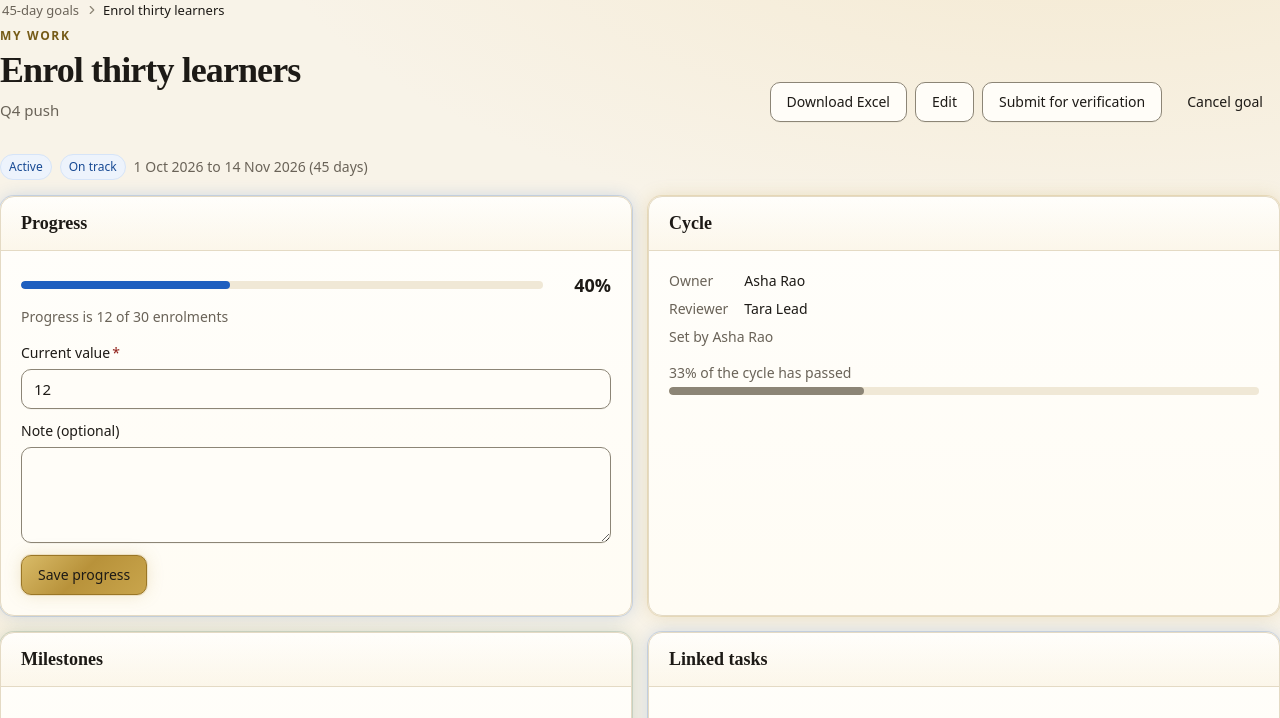
Test case: GoalDetailPage › rejects an invalid progress value locally
Replace the text in the field labelled "Current value*" with "abc". click: x=316, y=389
box: [21, 369, 611, 409]
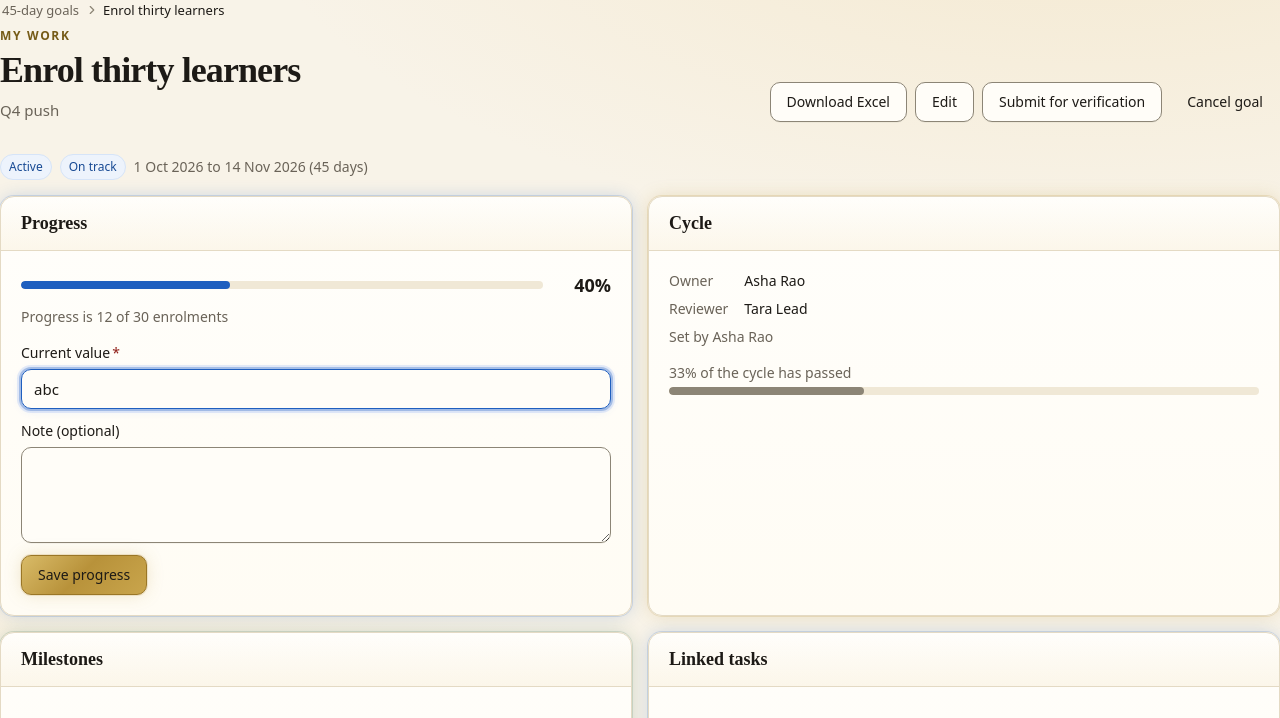
Click the button "Save progress". click: x=84, y=575
box: [21, 555, 147, 595]
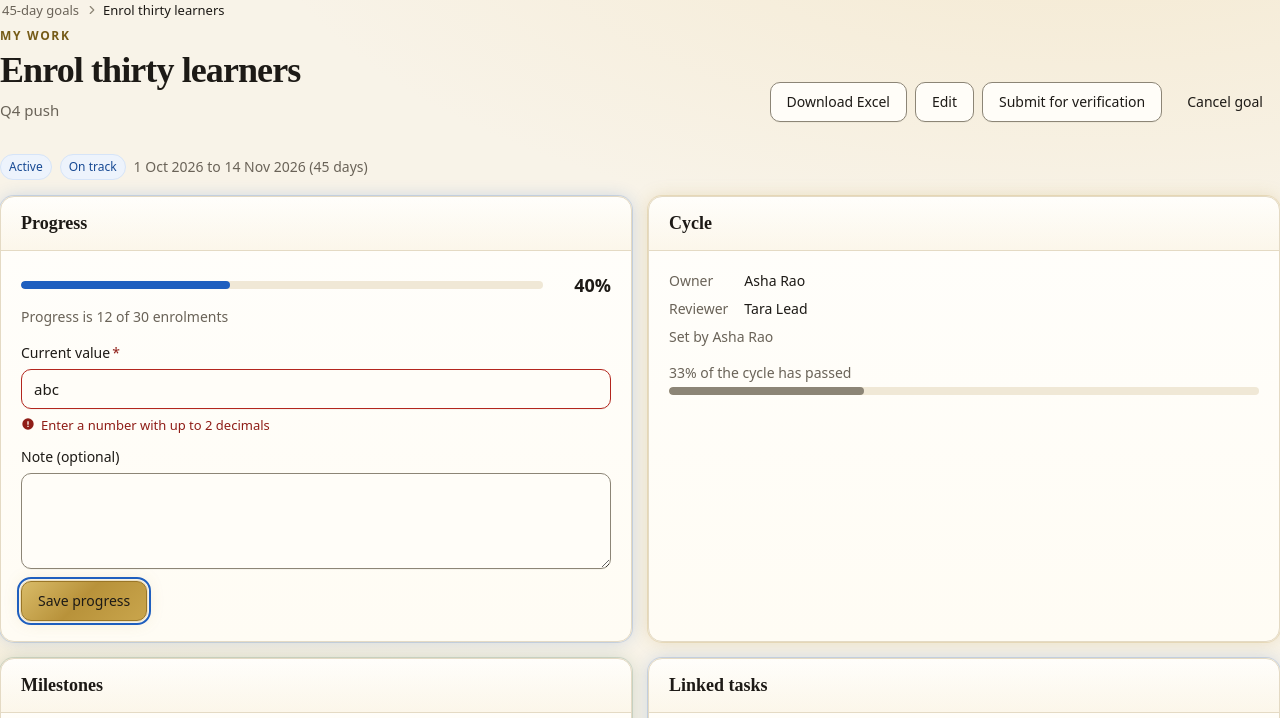
Expected: the text "Enter a number with up to 2 decimals" is shown, [41, 415, 270, 435]
